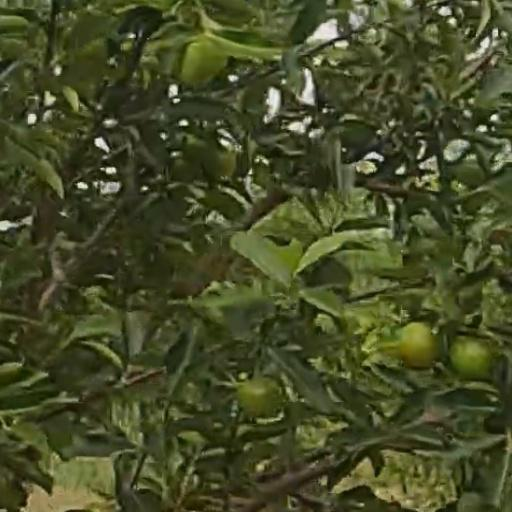acerola_verde: (453, 341, 498, 381), (402, 323, 437, 368), (240, 380, 282, 417)
